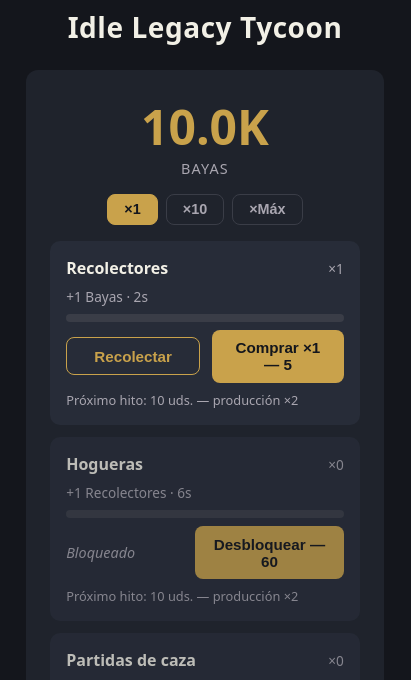
Test case: App › compra ×10: suma 10 unidades de golpe
Click the button "×10": (195, 209) x1=166 y1=194 x2=224 y2=225
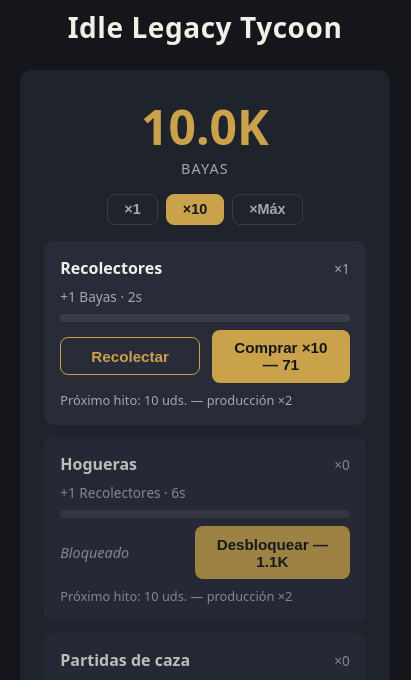
Click the button with aria-label "Comprar Recolectores": (281, 356) x1=212 y1=330 x2=350 y2=383
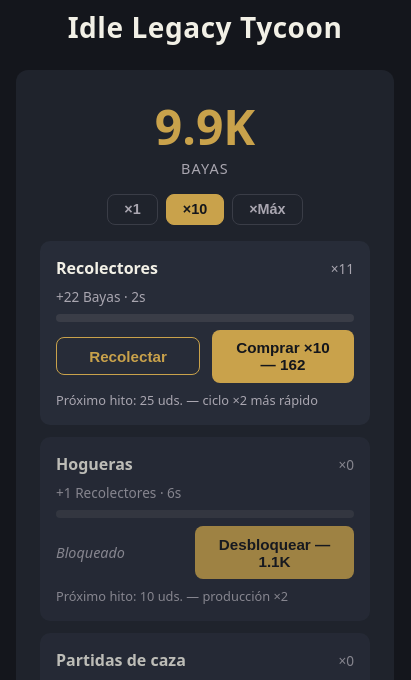
Now the text "×11" is shown, box x1=331 y1=259 x2=354 y2=278
